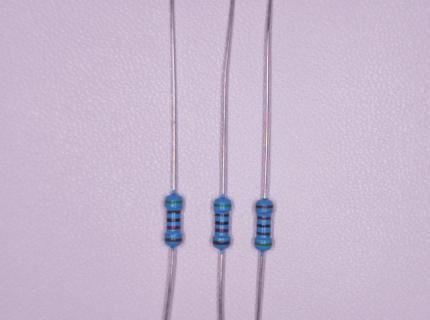Black band: (167, 218, 180, 222), (215, 221, 228, 225), (257, 224, 270, 228)
Brown band: (256, 205, 273, 209), (214, 241, 230, 245), (215, 213, 229, 217), (167, 210, 180, 214), (165, 238, 181, 241), (257, 232, 271, 235)
Green band: (255, 243, 271, 247), (214, 204, 231, 207), (165, 201, 181, 204)
Red band: (257, 216, 271, 220), (167, 226, 180, 229), (216, 229, 228, 232)
